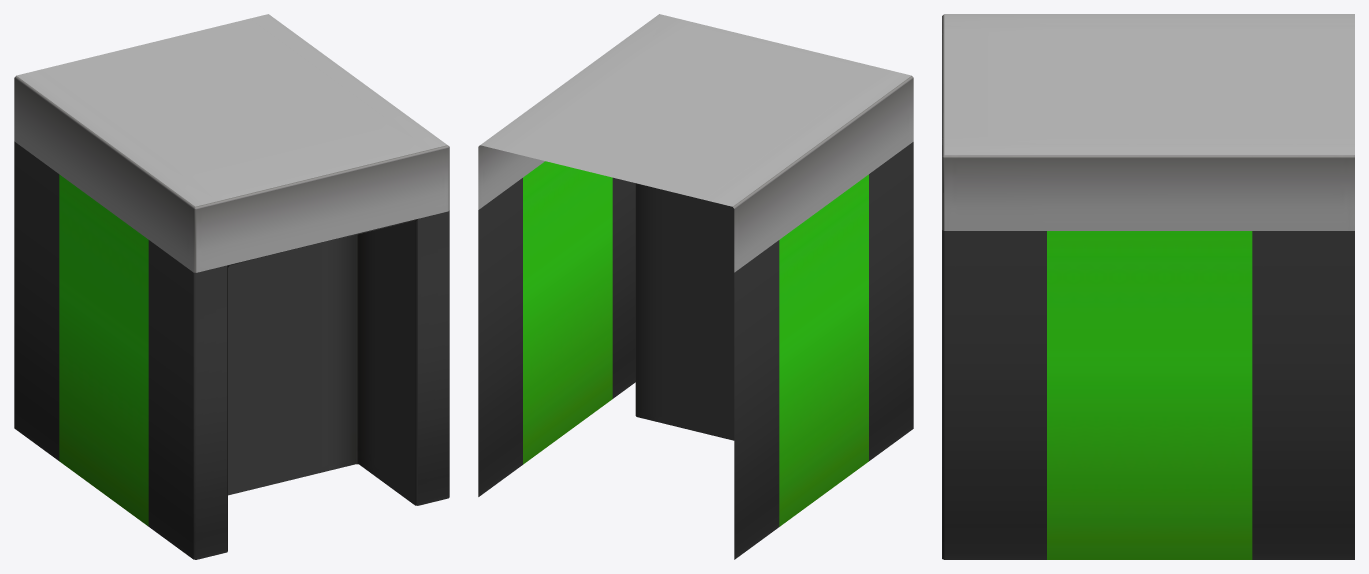
Rendered from Glass Conveyor.fbx.
The picture shows the model from 3 angles, left to right: view 1: azimuth 30°, elevation 25°; view 2: azimuth 150°, elevation 25°; view 3: azimuth 270°, elevation 25°; orthographic projection. The views are drawn at different scales.
Parts seen in each view (by area): view 1: Glass Conveyor; view 2: Glass Conveyor; view 3: Glass Conveyor.
Part boxes in pixels (x1=…): Glass Conveyor: x1=14, y1=14, x2=449, y2=559; Glass Conveyor: x1=478, y1=14, x2=913, y2=559; Glass Conveyor: x1=942, y1=14, x2=1354, y2=559.
Size of the model in its own units: 615 by 809 by 750.
